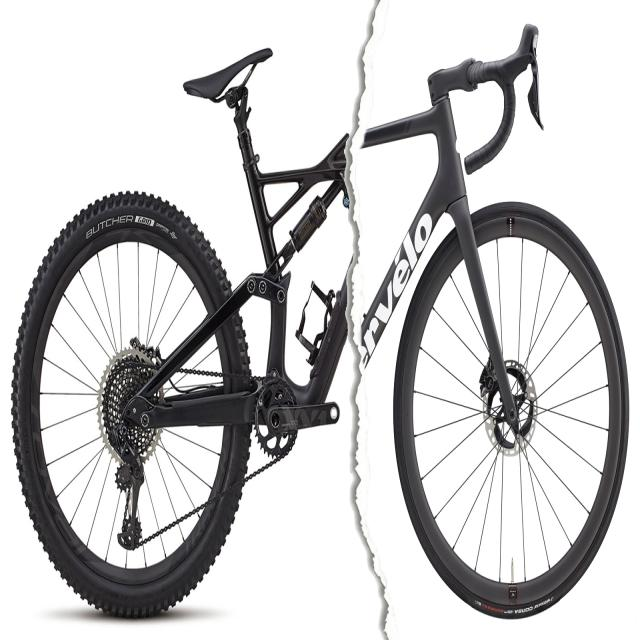mountain-bike: (12, 45, 348, 618)
road-bike: (366, 21, 631, 622)
